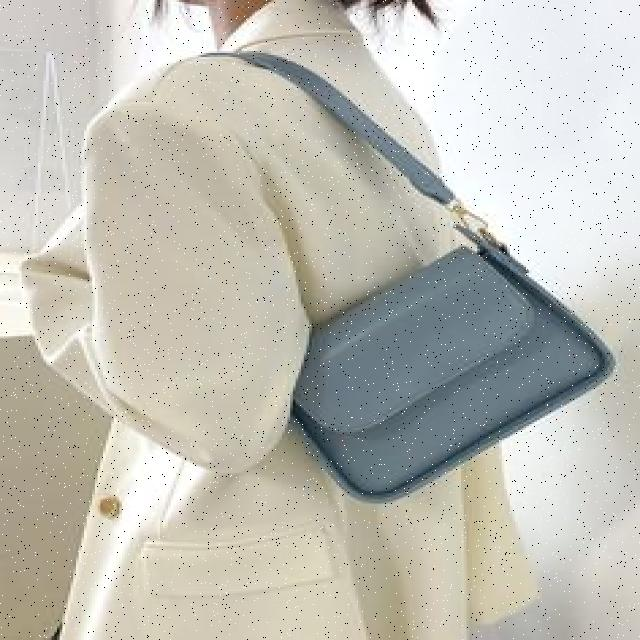handbag: (283, 238, 619, 507)
